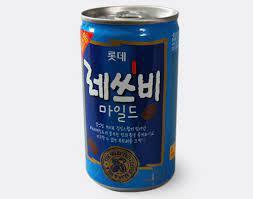letsbe: (78, 4, 180, 192)
